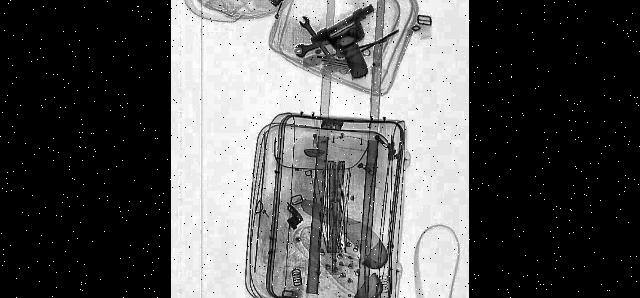Wrench: (298, 7, 332, 67), (296, 26, 338, 60)
